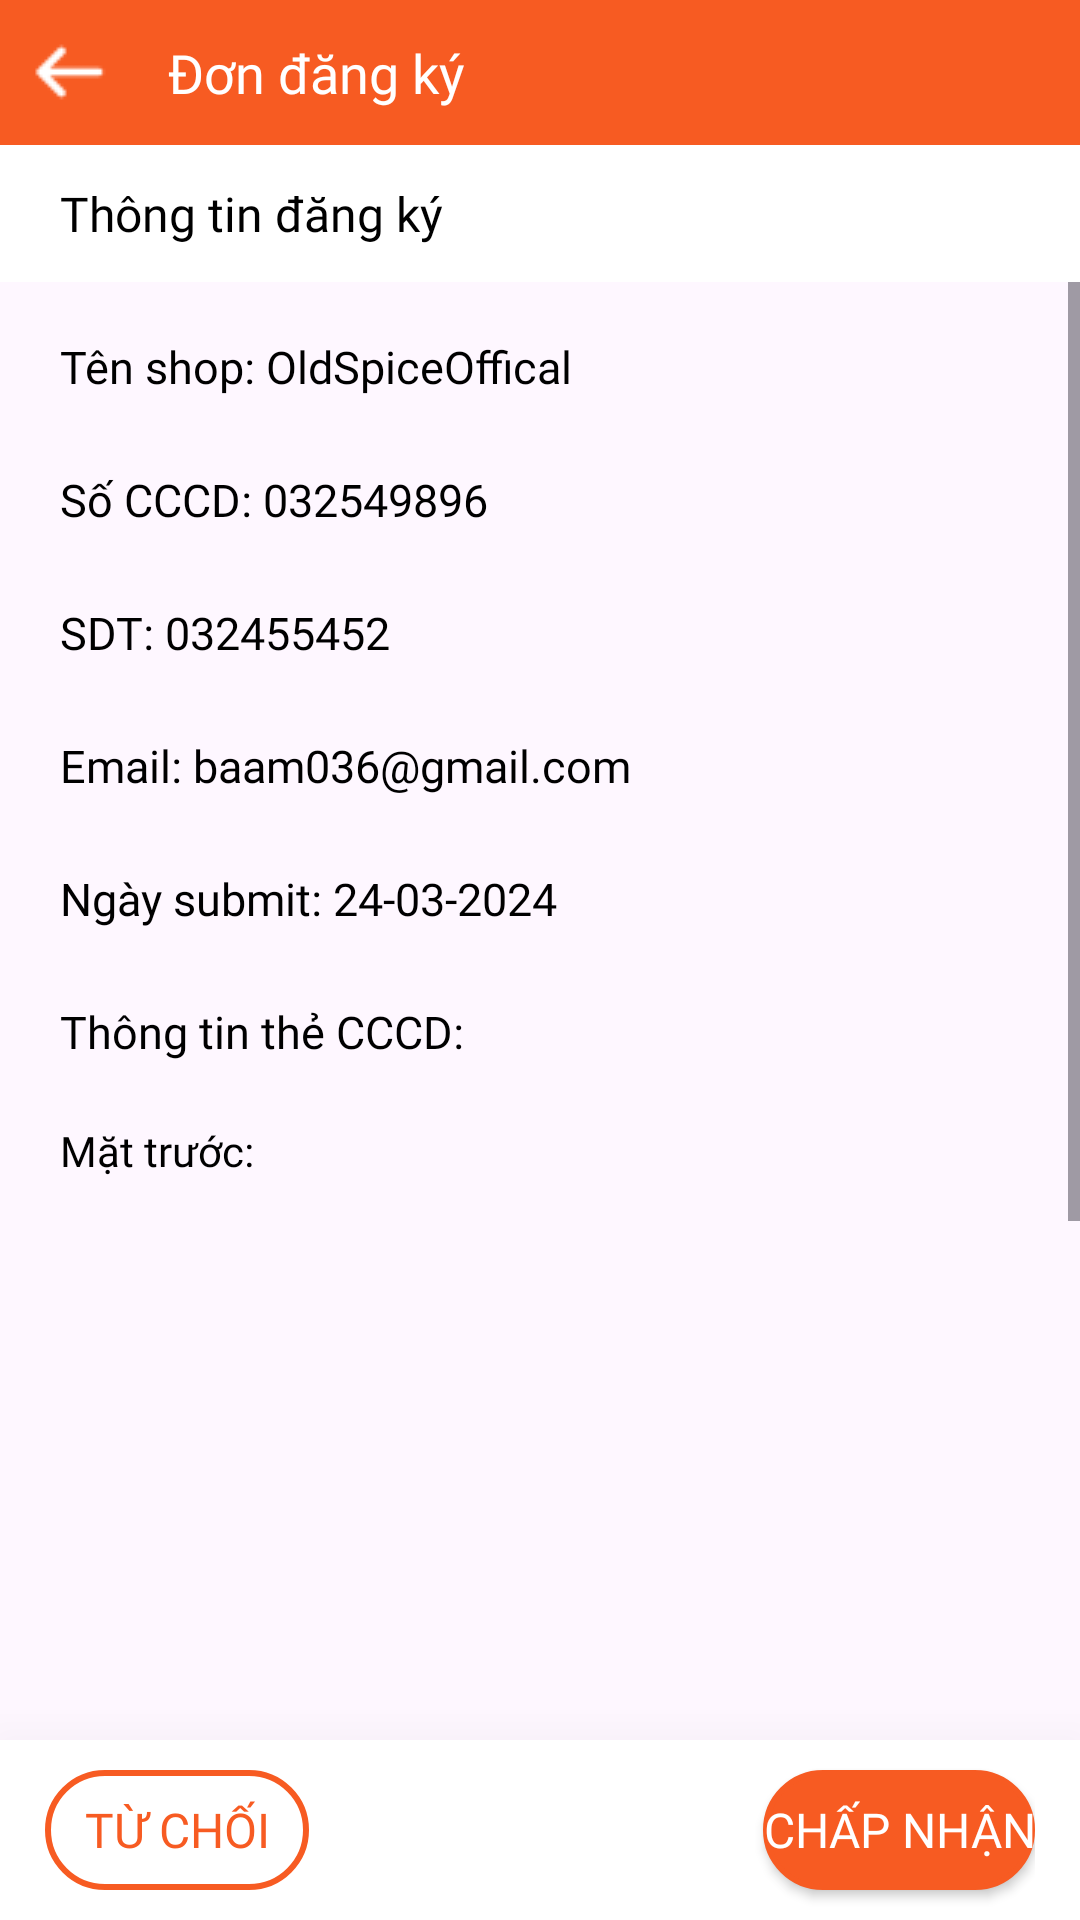

Named icons in this screenshot (1080×1920) and their bounding boxes, Rect(x1, y1, x2, y2):
arrow left: Rect(35, 45, 104, 99)
